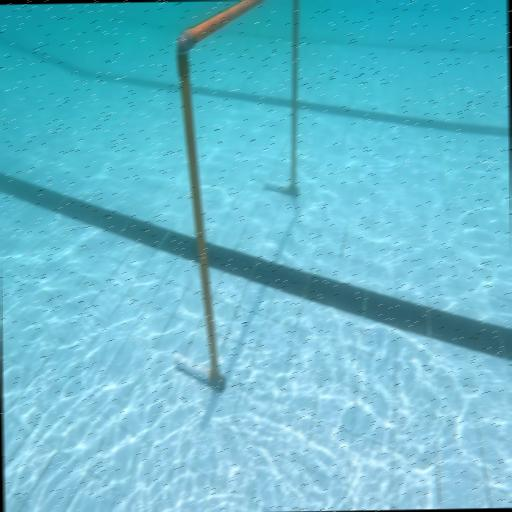gate: (168, 0, 306, 392)
